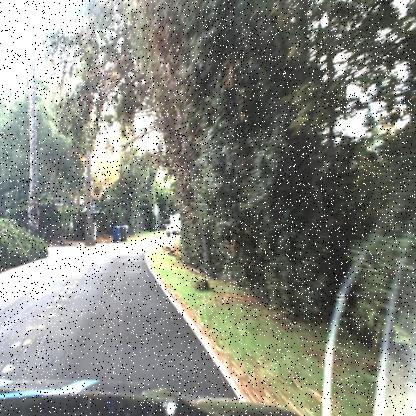car: (162, 208, 184, 243)
